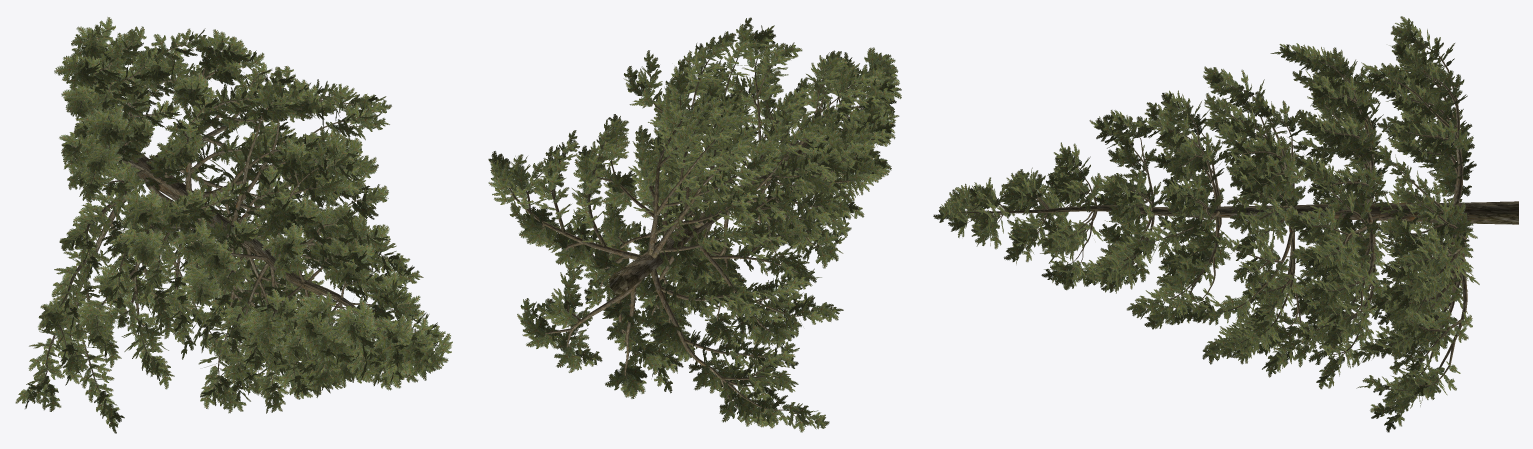
The model's file is pine_tree.obj.
3 renders of one model, left to right at view 1: azimuth 30°, elevation 25°; view 2: azimuth 150°, elevation 25°; view 3: azimuth 270°, elevation 25°, orthographic. The views are drawn at different scales.
Visible parts, largest first — view 1: leaves, tree; view 2: leaves, tree; view 3: leaves, tree.
Boxes of the visible parts, x1,y1,x2,y2 form: leaves: [15, 17, 452, 433]; tree: [34, 32, 434, 405]; leaves: [488, 17, 901, 432]; tree: [509, 41, 878, 418]; leaves: [933, 16, 1479, 432]; tree: [953, 37, 1518, 414].
Bounding box in the file's own units: 11.21 × 11.26 × 16.31.
Materials: 2 (2 with a texture image).
